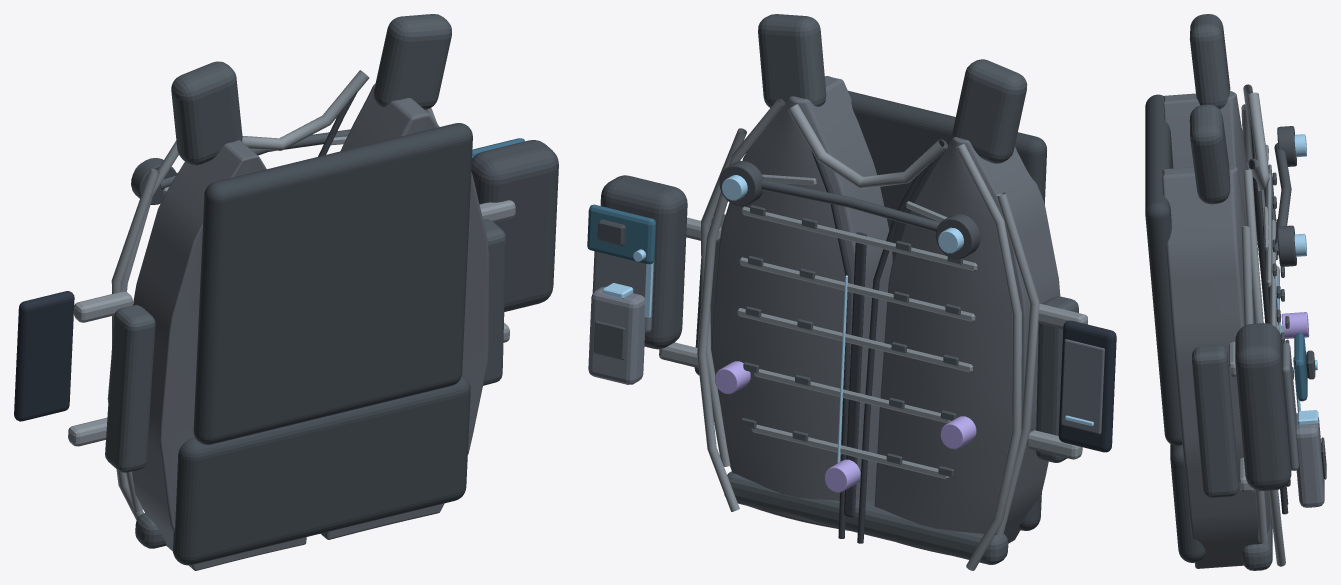
The model's file is navisense-vest.glb.
The picture shows the model from 3 angles, left to right: view 1: azimuth 30°, elevation 25°; view 2: azimuth 150°, elevation 25°; view 3: azimuth 270°, elevation 25°; orthographic projection. The views are drawn at different scales.
Visible parts, largest first — view 1: rear_upper_back_panel, rear_lower_back_panel, front_left_ballistic_panel, side_electronics_case, front_right_ballistic_panel, left_side_adjustment_panel, phone_body, left_shoulder_pad, right_shoulder_pad, right_side_adjustment_panel, u_neck_soft_binding, left_armhole_binding (+5 smaller); view 2: front_right_ballistic_panel, front_left_ballistic_panel, rear_upper_back_panel, side_electronics_case, lower_waist_belt, left_shoulder_pad, right_shoulder_pad, left_outer_binding, right_outer_binding, battery_pack, phone_screen, phone_body (+26 smaller); view 3: front_right_ballistic_panel, side_electronics_case, rear_upper_back_panel, right_side_adjustment_panel, right_shoulder_pad, front_left_ballistic_panel, left_shoulder_pad, battery_pack, right_outer_binding, rear_lower_back_panel, right_armhole_binding, side_electronics_lid (+18 smaller).
Part boxes in pixels (x1=…): rear_upper_back_panel: x1=193, y1=123, x2=472, y2=444; rear_lower_back_panel: x1=173, y1=375, x2=470, y2=565; front_left_ballistic_panel: x1=132, y1=140, x2=306, y2=570; side_electronics_case: x1=471, y1=140, x2=558, y2=311; front_right_ballistic_panel: x1=320, y1=83, x2=489, y2=539; left_side_adjustment_panel: x1=105, y1=305, x2=155, y2=472; phone_body: x1=14, y1=291, x2=74, y2=421; left_shoulder_pad: x1=171, y1=61, x2=242, y2=165; right_shoulder_pad: x1=373, y1=14, x2=451, y2=109; right_side_adjustment_panel: x1=483, y1=219, x2=506, y2=385; u_neck_soft_binding: x1=242, y1=70, x2=369, y2=150; left_armhole_binding: x1=111, y1=168, x2=159, y2=511; front_right_ballistic_panel: x1=711, y1=76, x2=892, y2=530; front_left_ballistic_panel: x1=874, y1=137, x2=1060, y2=555; rear_upper_back_panel: x1=848, y1=90, x2=1046, y2=262; side_electronics_case: x1=600, y1=175, x2=687, y2=349; lower_waist_belt: x1=724, y1=471, x2=1008, y2=564; left_shoulder_pad: x1=952, y1=59, x2=1027, y2=163; right_shoulder_pad: x1=758, y1=14, x2=826, y2=107; left_outer_binding: x1=956, y1=143, x2=1021, y2=570; right_outer_binding: x1=697, y1=98, x2=785, y2=511; battery_pack: x1=588, y1=286, x2=645, y2=384; phone_screen: x1=1061, y1=339, x2=1104, y2=434; phone_body: x1=1058, y1=320, x2=1116, y2=452; front_right_ballistic_panel: x1=1162, y1=164, x2=1270, y2=568; side_electronics_case: x1=1235, y1=323, x2=1291, y2=490; rear_upper_back_panel: x1=1145, y1=94, x2=1182, y2=445; right_side_adjustment_panel: x1=1192, y1=345, x2=1238, y2=497; right_shoulder_pad: x1=1189, y1=104, x2=1230, y2=204; front_left_ballistic_panel: x1=1163, y1=91, x2=1263, y2=322; left_shoulder_pad: x1=1189, y1=14, x2=1230, y2=108; battery_pack: x1=1296, y1=413, x2=1324, y2=507; right_outer_binding: x1=1243, y1=169, x2=1285, y2=566; rear_lower_back_panel: x1=1170, y1=444, x2=1205, y2=562; right_armhole_binding: x1=1241, y1=226, x2=1267, y2=543; side_electronics_lid: x1=1281, y1=342, x2=1298, y2=470.
Bounding box in the file's own units: 2.17 × 1.94 × 0.7082.
